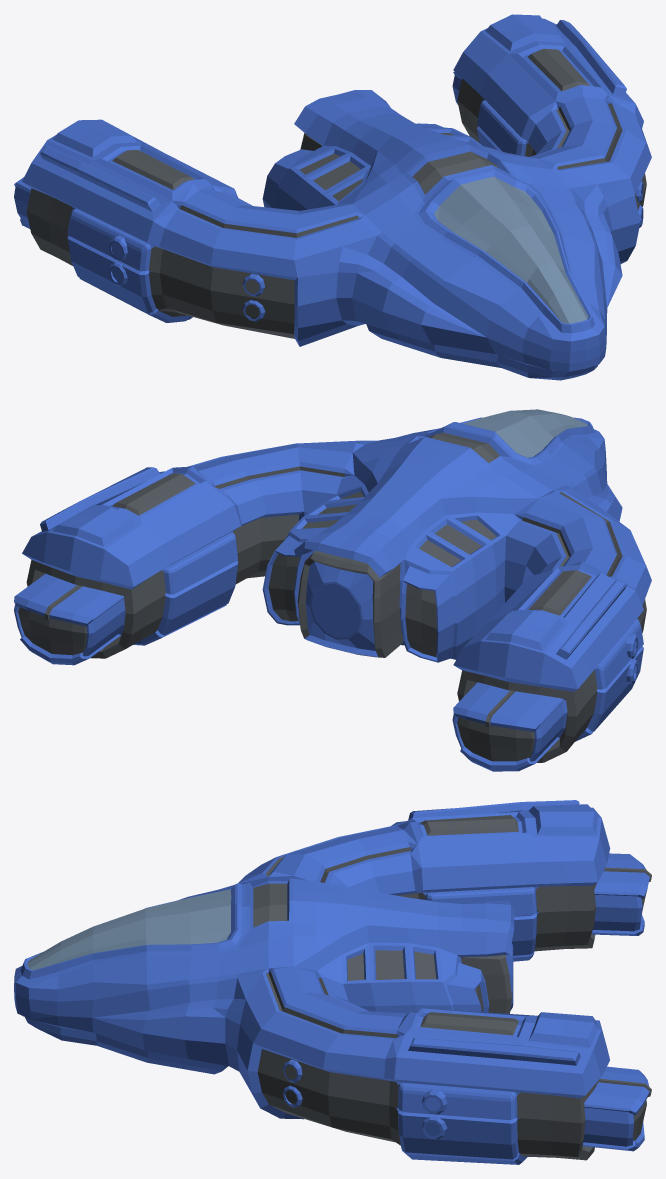
Rendered from Fighter_08_Body_Blue.fbx.
The picture shows the model from 3 angles, top to bottom: view 1: azimuth 30°, elevation 25°; view 2: azimuth 150°, elevation 25°; view 3: azimuth 270°, elevation 25°; orthographic projection.
Parts seen in each view (by area): view 1: Fighter_08_Body_Blue; view 2: Fighter_08_Body_Blue; view 3: Fighter_08_Body_Blue.
Boxes of the visible parts, x1,y1,x2,y2 form: Fighter_08_Body_Blue: (14,14,651,380); Fighter_08_Body_Blue: (14,409,651,771); Fighter_08_Body_Blue: (14,800,651,1164).
Size of the model in its own units: 1805 by 524 by 1797.
Materials: 3 (3 with a texture image).
